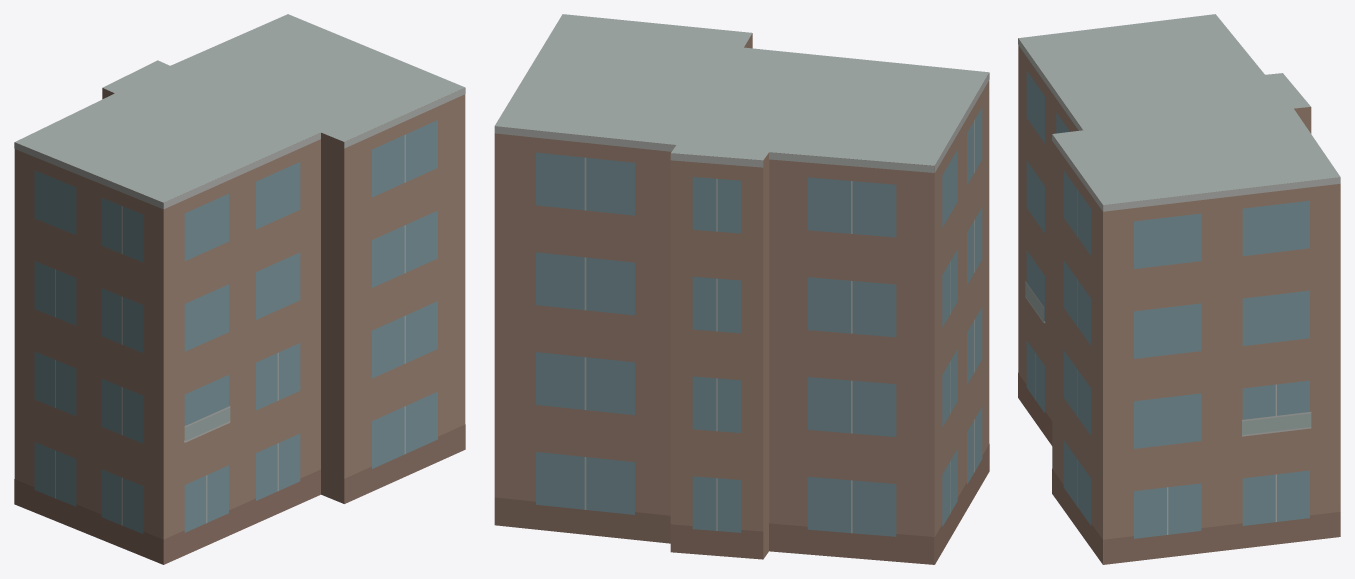
The model's file is survey-upis-32910370.glb.
The picture shows the model from 3 angles, left to right: view 1: azimuth 30°, elevation 25°; view 2: azimuth 150°, elevation 25°; view 3: azimuth 270°, elevation 25°; orthographic projection. The views are drawn at different scales.
Visible parts, largest first — view 1: survey-upis-32910370.tmp; view 2: survey-upis-32910370.tmp; view 3: survey-upis-32910370.tmp.
Boxes of the visible parts, x1,y1,x2,y2 form: survey-upis-32910370.tmp: [14, 14, 465, 564]; survey-upis-32910370.tmp: [494, 14, 989, 564]; survey-upis-32910370.tmp: [1018, 14, 1340, 564].
Bounding box in the file's own units: 15.21 × 13.34 × 10.85.
